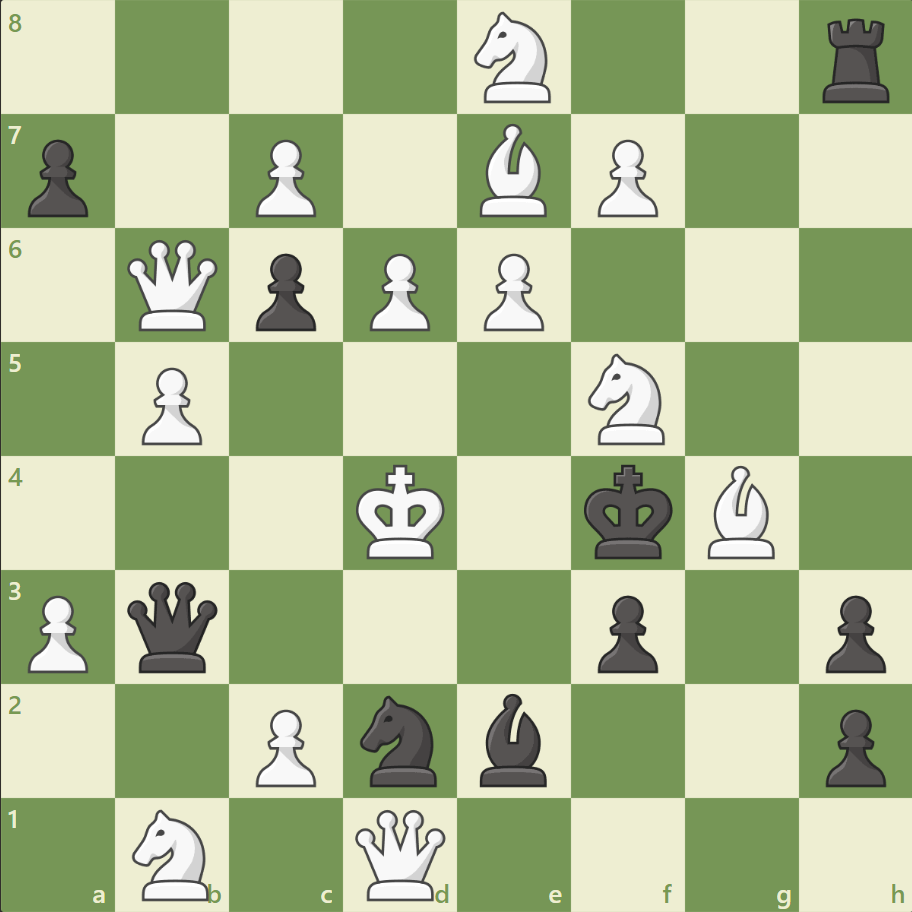B: (698, 460, 782, 563), (471, 120, 555, 222)
K: (351, 458, 451, 566)
N: (124, 802, 222, 904), (465, 7, 562, 110), (579, 348, 676, 450)
P: (247, 132, 322, 223), (474, 246, 549, 337), (133, 359, 208, 450), (20, 586, 95, 677), (247, 700, 322, 791), (588, 132, 662, 223), (361, 246, 435, 337)
Q: (124, 236, 223, 335), (351, 804, 450, 903)
b: (471, 687, 555, 790)
k: (579, 458, 679, 566)
n: (351, 688, 449, 791)
p: (20, 132, 95, 223), (247, 246, 322, 337), (588, 586, 662, 677), (815, 586, 889, 677), (815, 700, 889, 791)
q: (124, 576, 223, 676)
r: (814, 12, 897, 109)
